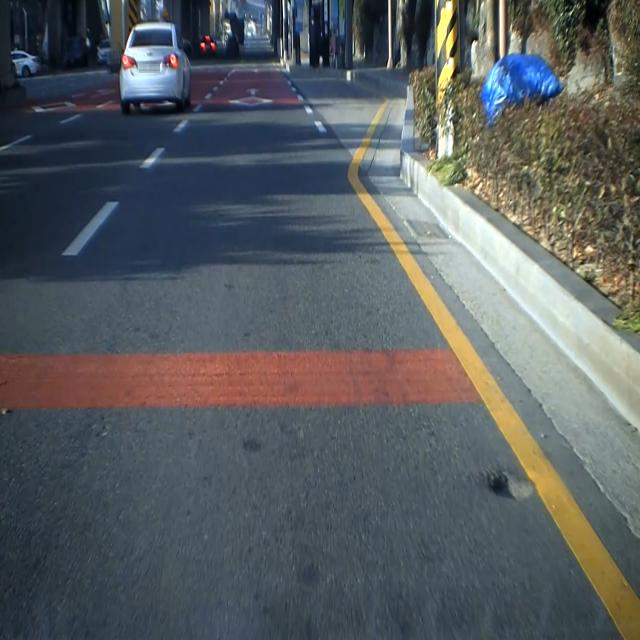Pothole: (484, 463, 541, 511)
